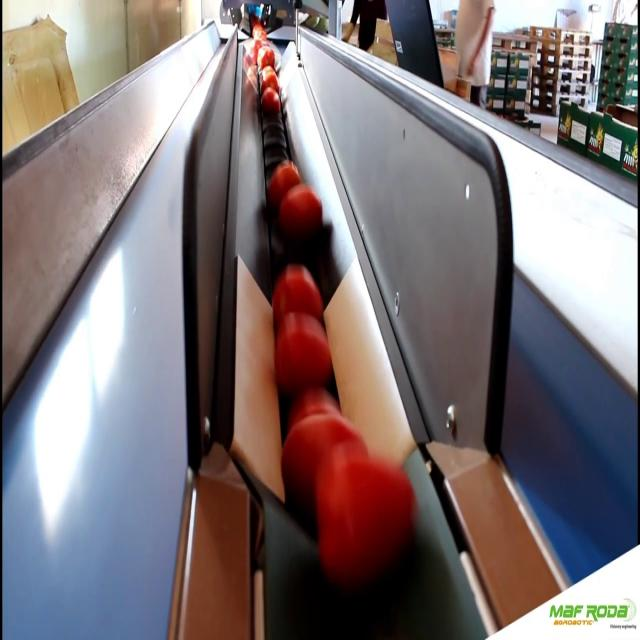Tomato: (322, 457, 422, 600), (282, 420, 370, 503), (278, 315, 332, 385), (271, 259, 325, 319), (279, 185, 331, 234), (263, 157, 300, 210), (260, 88, 282, 116), (259, 49, 274, 68), (261, 75, 282, 87)
